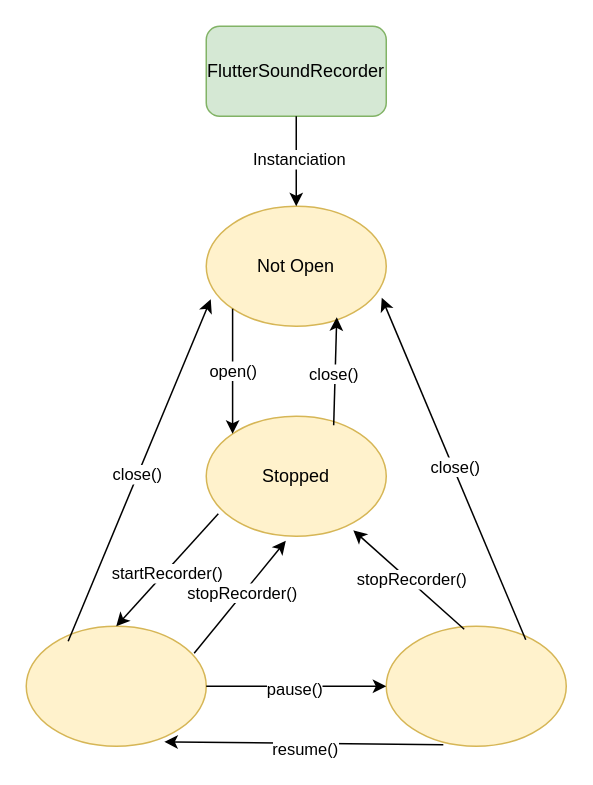
The diagram is 593 pixels wide and 785 high, and some of its shapes have lost their labels. Each missing label, with the box of its shape:
Paused: (385, 625, 566, 746)
Recording: (25, 625, 206, 746)
